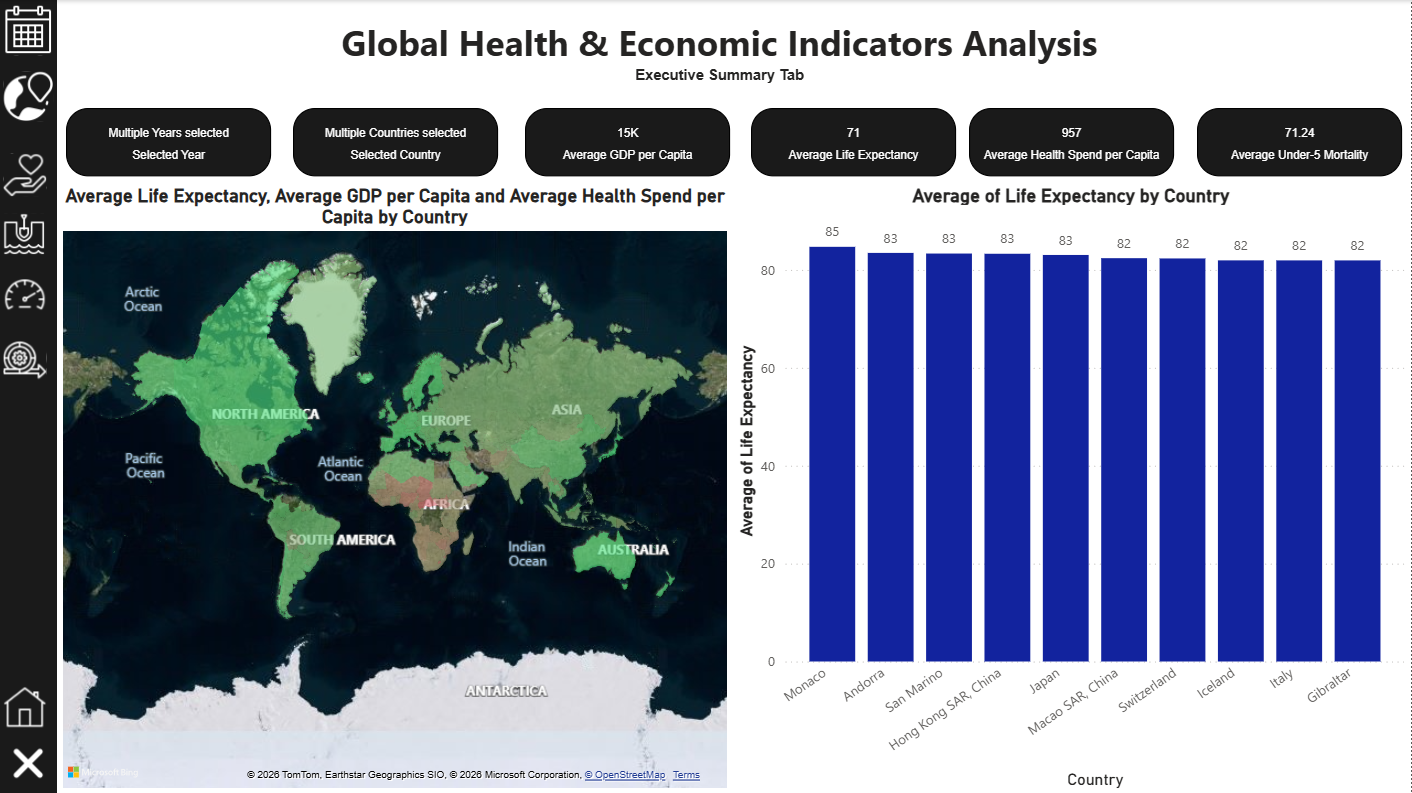

What the dashboard file says about the page in this screenshot:
{"tool":"powerbi","page":{"name":"Executive Summary","canvas":[1280,720],"ordinal":1},"visuals":[{"type":"shape","title":"Side Bar","box":[0,0,52.6,720],"z":0},{"type":"card","title":"Average Life Expectancy Card","fields":{"Values":["Measure.Average Life Expectancy"]},"box":[682,98,186,62],"z":1000},{"type":"card","title":"Average GDP per Capita Card","fields":{"Values":["Measure.Average GDP per Capita"]},"box":[477,98,186,62],"z":2000},{"type":"card","title":"Average Health Spend per Capita Card","fields":{"Values":["Measure.Average Health Spend per Capita"]},"box":[880,98,186,62],"z":3000},{"type":"card","title":"Average Under-5 Mortality Card","fields":{"Values":["Measure.Average Under-5 Mortality"]},"box":[1086,98,186,62],"z":4000},{"type":"filledMap","fields":{"Category":["dim_country.country_name"]},"box":[53,167,613,553],"z":5000},{"type":"columnChart","fields":{"Category":["dim_country.country_name"],"Y":["Avg(fact_life_expectancy.life_expectancy)"]},"box":[665,167,615,553],"z":6000},{"type":"textbox","title":"Report Name Text Box","box":[167.7,10.7,971.4,76.5],"z":7000},{"type":"actionButton","title":"Date Filter Button","box":[0,0,53,55],"z":8000},{"type":"actionButton","title":"Country Filter Button","box":[0,60,53,55],"z":9000},{"type":"card","title":"Selected Country Card","fields":{"Values":["Measure.Selected Country"]},"box":[267,98,186,62],"z":10000},{"type":"card","title":"Selected Year Card","fields":{"Values":["Measure.Selected Year"]},"box":[61,98,186,62],"z":11000},{"type":"actionButton","title":"Home page Button","box":[0,618.5,52.3,47],"z":12000},{"type":"actionButton","title":"Data & Methodology Tab Button","box":[0,301.9,52.3,47],"z":12500},{"type":"actionButton","title":"Country Deep Dive Tab Button","box":[0,189.2,52.3,45.6],"z":12750},{"type":"actionButton","title":"Economic vs Health Correlation Tab Button","box":[0,135.5,52.3,47],"z":12875},{"type":"actionButton","title":"Indicator Trends Tab Button","box":[0,244.2,52.3,47],"z":12937},{"type":"actionButton","title":"Close Button","box":[0,665,53,55],"z":14000}]}

Visuals, with their boxes on the page's 1280x720 design canvas (x1, y1, x2, y2). These are canvas units, not pixel positions in the 1412x793 screenshot, which may show the page scaled, cropped or inside an application window:
"Side Bar" shape: (left=0, top=0, right=53, bottom=720)
"Average Life Expectancy Card" card: (left=682, top=98, right=868, bottom=160)
"Average GDP per Capita Card" card: (left=477, top=98, right=663, bottom=160)
"Average Health Spend per Capita Card" card: (left=880, top=98, right=1066, bottom=160)
"Average Under-5 Mortality Card" card: (left=1086, top=98, right=1272, bottom=160)
filledMap - dim_country.country_name: (left=53, top=167, right=666, bottom=720)
columnChart - dim_country.country_name x Avg(fact_life_expectancy.life_expectancy): (left=665, top=167, right=1280, bottom=720)
"Report Name Text Box" textbox: (left=168, top=11, right=1139, bottom=87)
"Date Filter Button" actionButton: (left=0, top=0, right=53, bottom=55)
"Country Filter Button" actionButton: (left=0, top=60, right=53, bottom=115)
"Selected Country Card" card: (left=267, top=98, right=453, bottom=160)
"Selected Year Card" card: (left=61, top=98, right=247, bottom=160)
"Home page Button" actionButton: (left=0, top=618, right=52, bottom=666)
"Data & Methodology Tab Button" actionButton: (left=0, top=302, right=52, bottom=349)
"Country Deep Dive Tab Button" actionButton: (left=0, top=189, right=52, bottom=235)
"Economic vs Health Correlation Tab Button" actionButton: (left=0, top=136, right=52, bottom=182)
"Indicator Trends Tab Button" actionButton: (left=0, top=244, right=52, bottom=291)
"Close Button" actionButton: (left=0, top=665, right=53, bottom=720)
